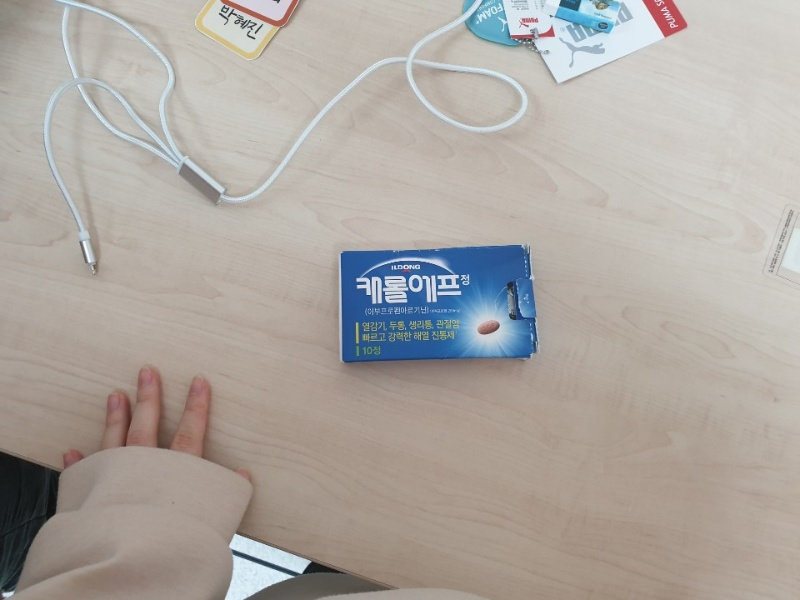carolF: (338, 243, 541, 364)
